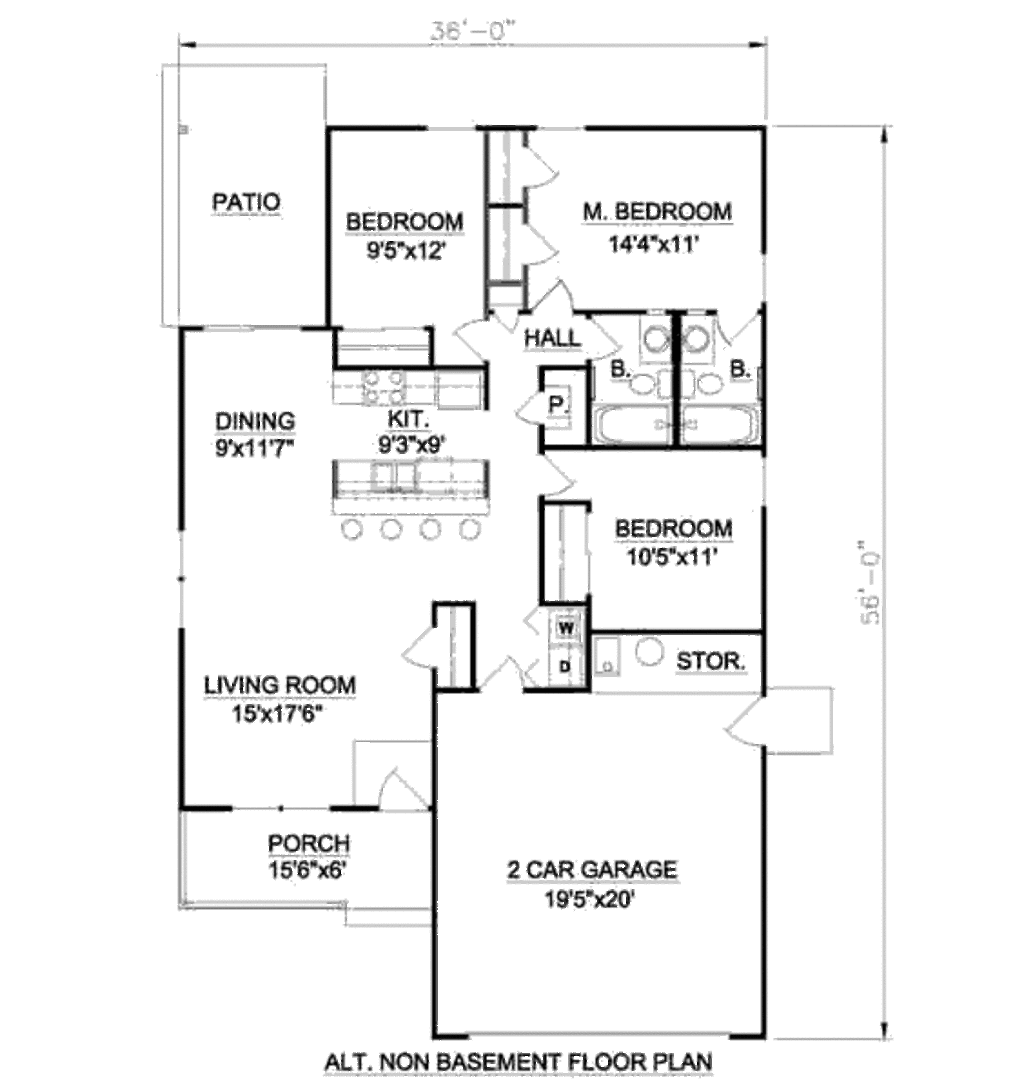door: (377, 756, 448, 824), (391, 612, 457, 684), (528, 443, 587, 512), (447, 311, 501, 367), (535, 273, 594, 323), (731, 689, 770, 746), (518, 217, 562, 267), (469, 650, 521, 692), (723, 309, 776, 345), (515, 387, 560, 429), (521, 141, 557, 184), (587, 316, 620, 358)
kitchen_bar: (315, 445, 509, 553)
large_sink: (676, 368, 733, 399), (623, 370, 667, 400)
small_sink: (676, 306, 720, 370), (628, 314, 674, 368)
tub: (592, 399, 684, 450), (684, 406, 762, 446)
twin_sink: (369, 453, 426, 497)
window: (155, 526, 196, 653), (223, 797, 328, 823), (428, 123, 476, 150), (528, 119, 582, 138)
